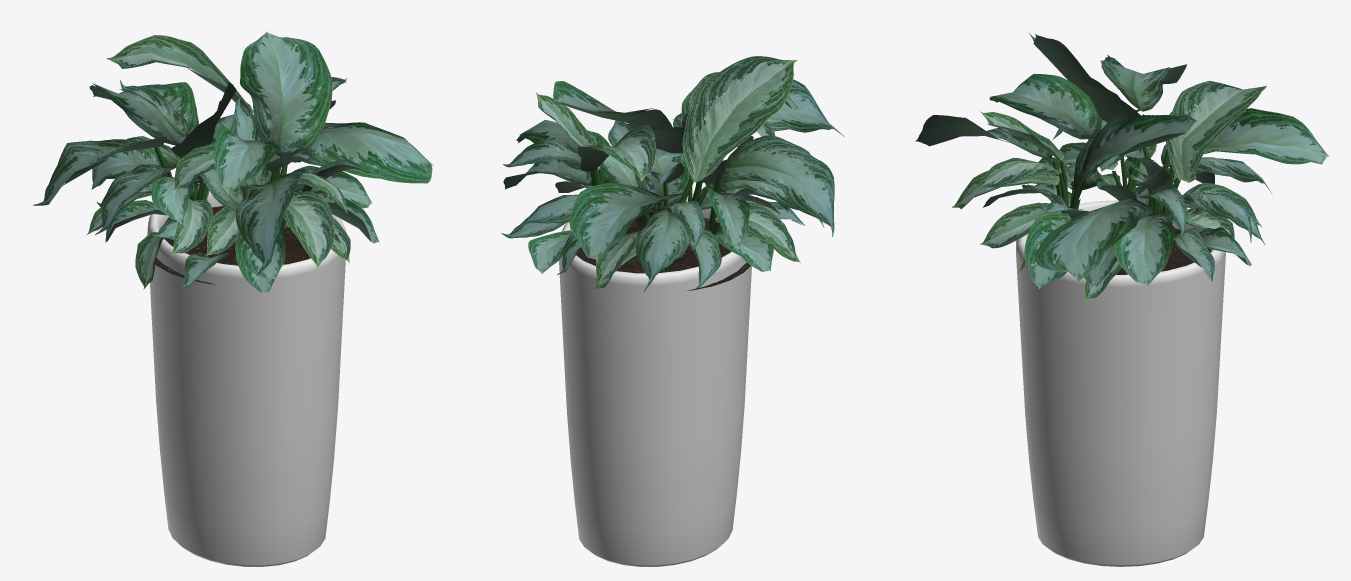
File: plant.glb
3 renders of one model, left to right at view 1: azimuth 30°, elevation 25°; view 2: azimuth 150°, elevation 25°; view 3: azimuth 270°, elevation 25°, orthographic. The views are drawn at different scales.
Parts seen in each view (by area): view 1: potTall_aglaonema; view 2: potTall_aglaonema; view 3: potTall_aglaonema.
Boxes of the visible parts, x1,y1,x2,y2 form: potTall_aglaonema: (33,31,434,566); potTall_aglaonema: (501,56,844,566); potTall_aglaonema: (915,32,1329,566).
Size of the model in its own units: 0.1253 by 0.1607 by 0.1297.
3 materials, 2 textured.
